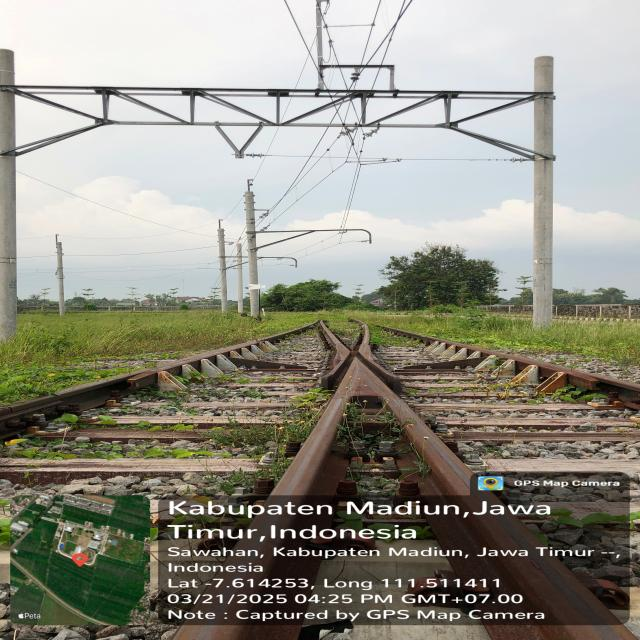rail-detection: (74, 320, 636, 640), (449, 342, 640, 393)
